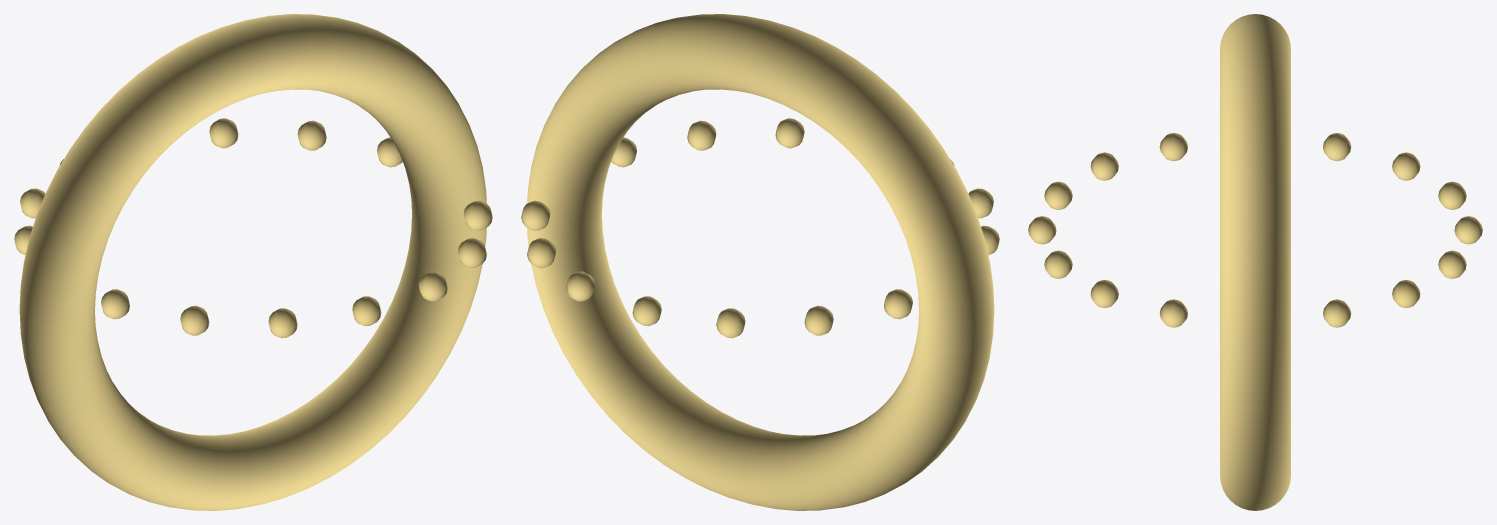
The model's file is test-bangle-studded.glb.
The picture shows the model from 3 angles, left to right: view 1: azimuth 30°, elevation 25°; view 2: azimuth 150°, elevation 25°; view 3: azimuth 270°, elevation 25°; orthographic projection. The views are drawn at different scales.
Parts seen in each view (by area): view 1: Model; view 2: Model; view 3: Model.
Boxes of the visible parts, x1,y1,x2,y2 form: Model: [14, 14, 492, 510]; Model: [521, 14, 999, 510]; Model: [1028, 14, 1482, 510].
Size of the model in its own units: 28 by 28 by 25.6.
